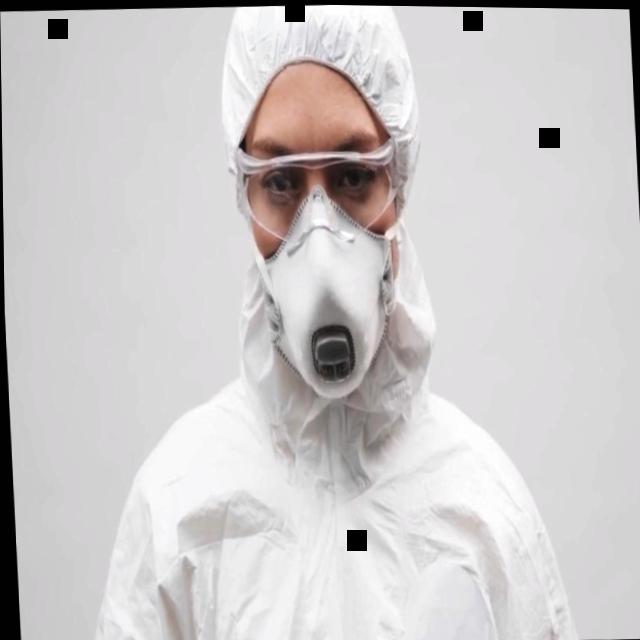Mask: (236, 136, 405, 403)
